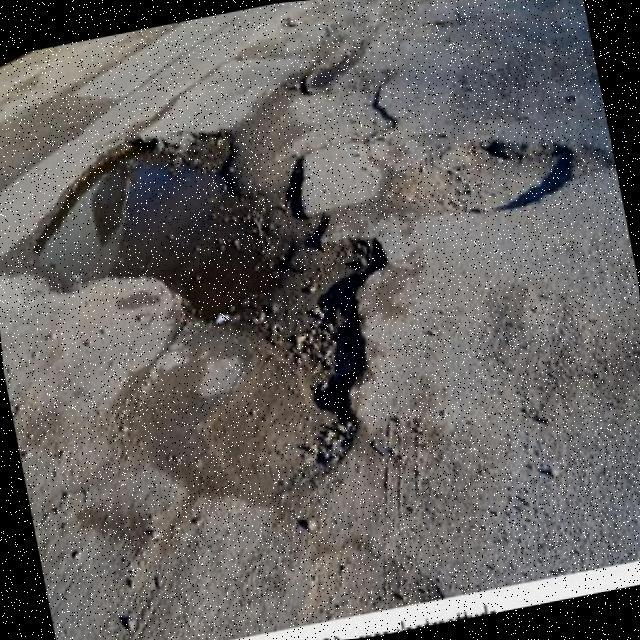Pothole: (0, 131, 387, 473), (390, 141, 572, 212)
